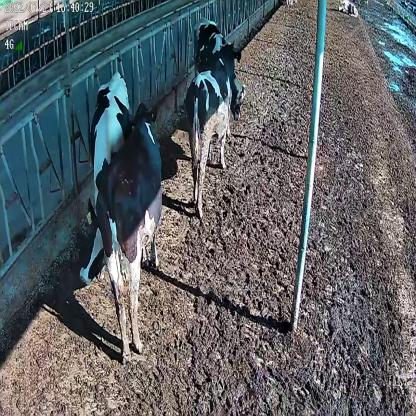cow: (95, 101, 165, 362), (78, 72, 134, 288), (184, 40, 237, 213), (194, 15, 246, 120), (337, 0, 359, 20)
